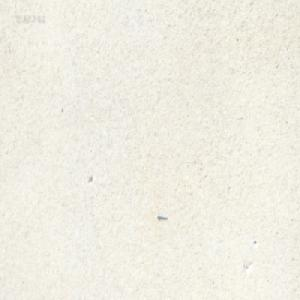Nail: (157, 213, 167, 221)
